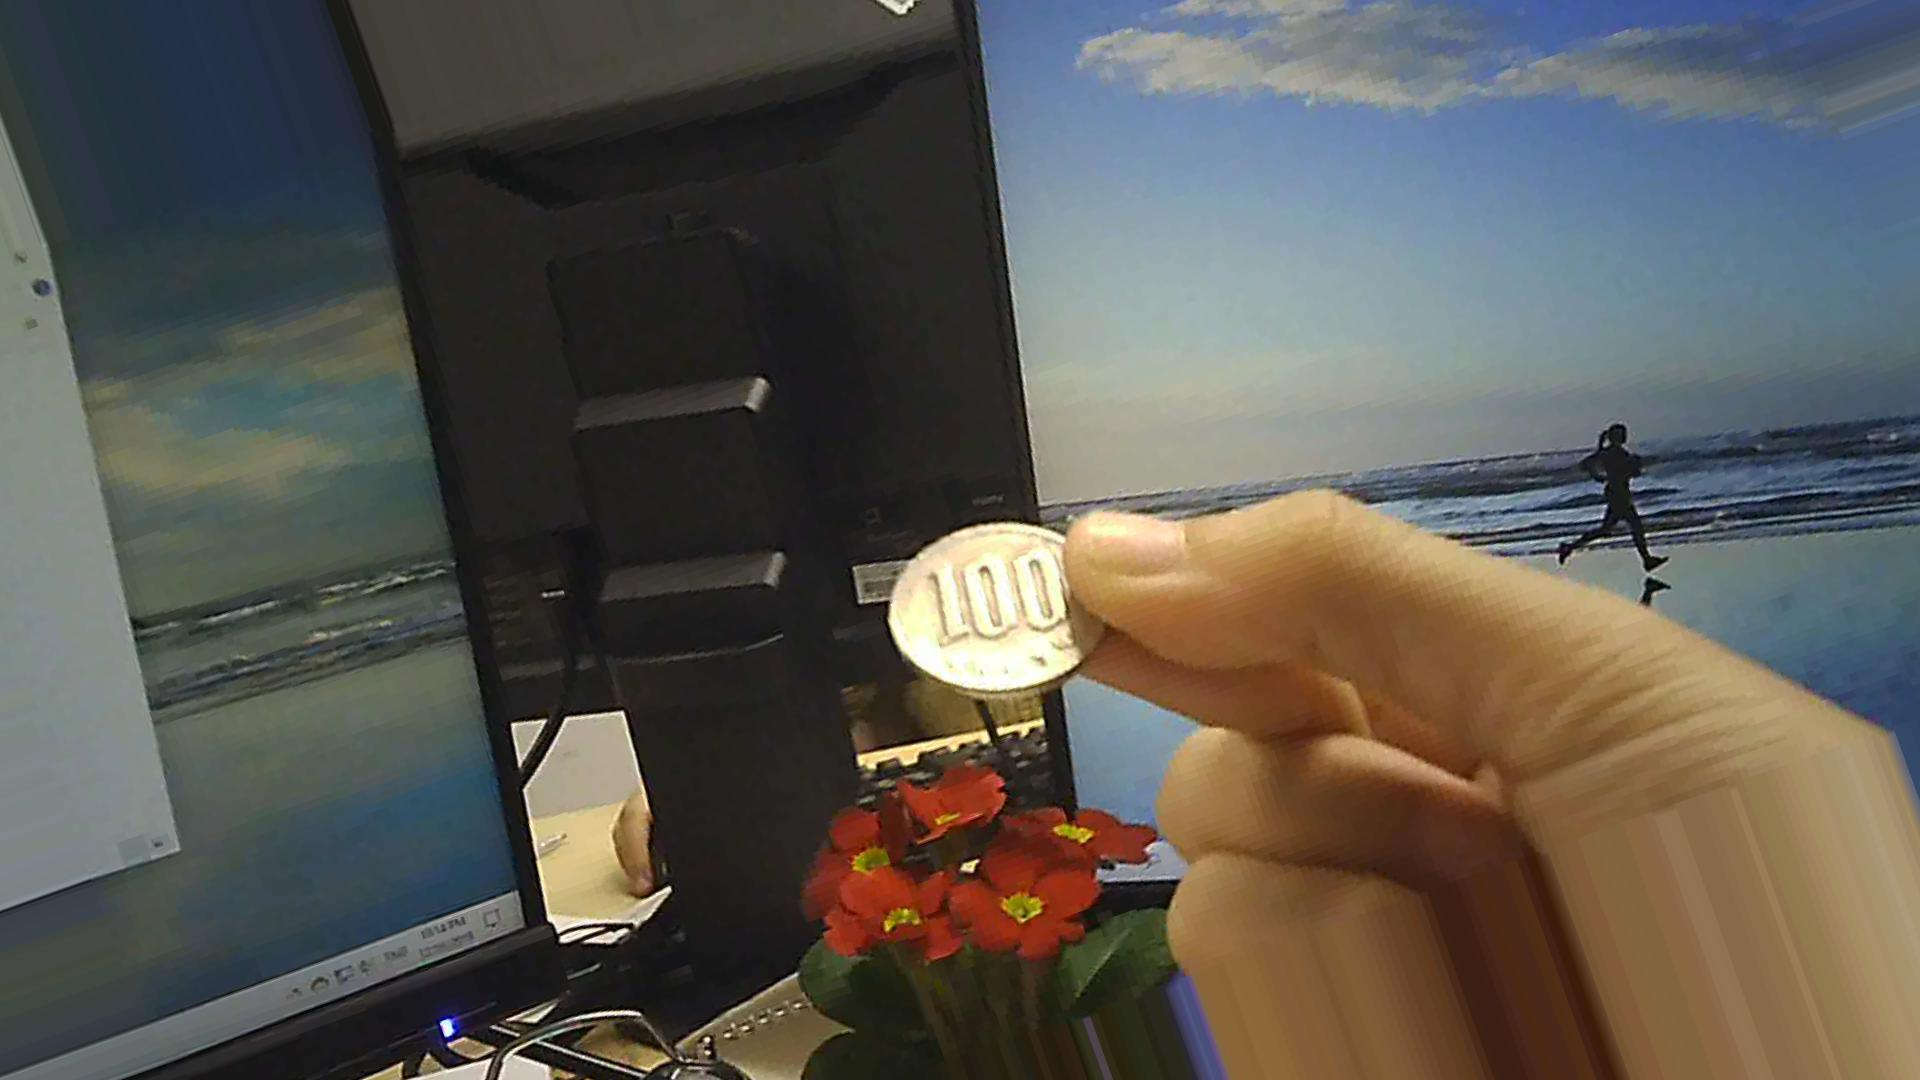100 Yen: (876, 516, 1116, 703)
